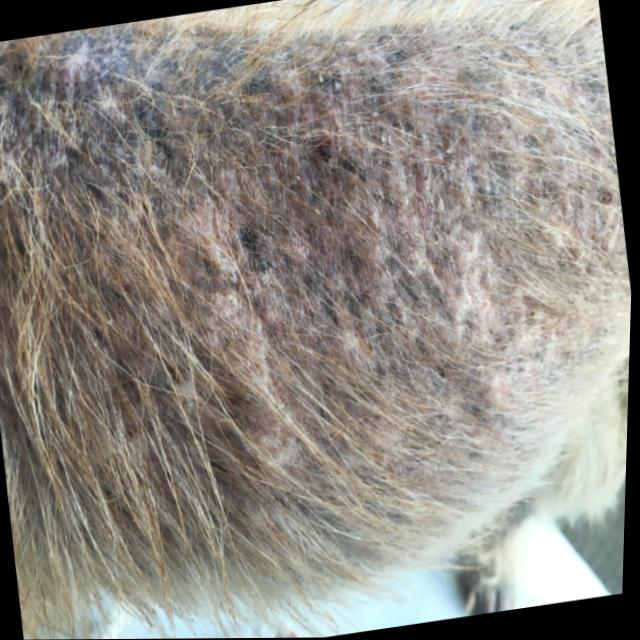demodicosis: (245, 25, 576, 389), (0, 15, 213, 282)
